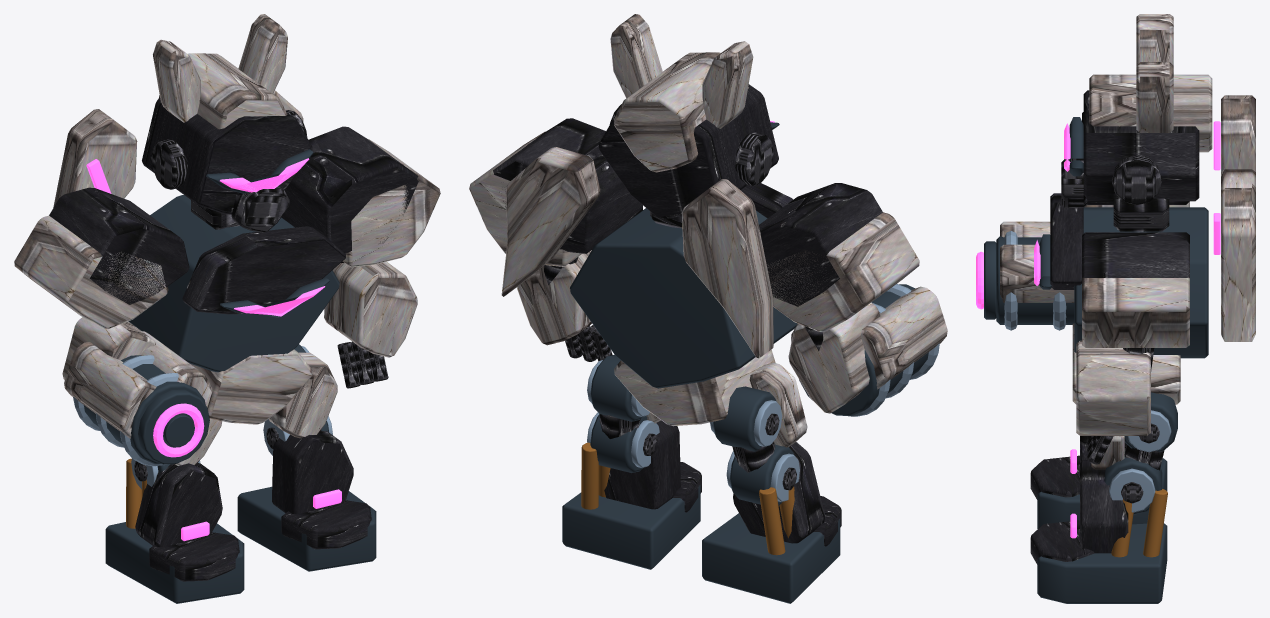
Rendered from scout.glb.
3 views of the same model, side by side, from view 1: azimuth 30°, elevation 25°; view 2: azimuth 150°, elevation 25°; view 3: azimuth 270°, elevation 25° (orthographic). The views are drawn at different scales.
Visible parts, largest first — view 1: Navy crown, Cuirass yoke, Angular scout torso, Greave armor, Greave armor.001, Neck actuator, Servo housing.004, Servo housing.001, Recessed V optic, Tapered thigh shield.001, Bearing ring, Calf piston; view 2: Navy crown, Cuirass yoke, Angular scout torso, Servo housing.001, Servo housing.004, Greave armor.001, Greave armor, Neck actuator, Tapered thigh shield, Bearing ring.002, Calf piston, Calf piston.002 (+4 smaller); view 3: Navy crown, Cuirass yoke, Angular scout torso, Servo housing.004, Neck actuator, Greave armor.001, Greave armor, Bearing ring.008, Calf piston.002, Servo housing.001, Hub.008, Bearing ring (+3 smaller).
Part boxes in pixels (x1=…): Navy crown: x1=14, y1=14, x2=440, y2=438; Cuirass yoke: x1=49, y1=98, x2=418, y2=314; Angular scout torso: x1=73, y1=149, x2=339, y2=464; Greave armor: x1=135, y1=463, x2=239, y2=581; Greave armor.001: x1=272, y1=430, x2=371, y2=549; Neck actuator: x1=151, y1=110, x2=388, y2=388; Servo housing.004: x1=237, y1=344, x2=376, y2=571; Servo housing.001: x1=105, y1=464, x2=244, y2=603; Recessed V optic: x1=153, y1=158, x2=325, y2=457; Tapered thigh shield.001: x1=269, y1=352, x2=337, y2=438; Bearing ring: x1=73, y1=355, x2=178, y2=466; Calf piston: x1=126, y1=458, x2=146, y2=528; Navy crown: x1=469, y1=14, x2=947, y2=426; Cuirass yoke: x1=493, y1=84, x2=882, y2=306; Angular scout torso: x1=570, y1=122, x2=928, y2=415; Servo housing.001: x1=702, y1=386, x2=840, y2=603; Servo housing.004: x1=562, y1=354, x2=700, y2=569; Greave armor.001: x1=604, y1=420, x2=701, y2=512; Greave armor: x1=733, y1=442, x2=841, y2=546; Neck actuator: x1=544, y1=104, x2=823, y2=361; Tapered thigh shield: x1=749, y1=362, x2=807, y2=447; Bearing ring.002: x1=710, y1=400, x2=799, y2=501; Calf piston: x1=759, y1=486, x2=794, y2=555; Calf piston.002: x1=581, y1=442, x2=610, y2=509; Navy crown: x1=1000, y1=14, x2=1255, y2=435; Cuirass yoke: x1=1050, y1=90, x2=1199, y2=289; Angular scout torso: x1=984, y1=117, x2=1208, y2=358; Servo housing.004: x1=1037, y1=392, x2=1177, y2=603; Neck actuator: x1=1061, y1=155, x2=1169, y2=464; Greave armor.001: x1=1030, y1=460, x2=1128, y2=564; Greave armor: x1=1030, y1=436, x2=1125, y2=499; Bearing ring.008: x1=1109, y1=410, x2=1171, y2=512; Calf piston.002: x1=1111, y1=489, x2=1167, y2=557; Servo housing.001: x1=1037, y1=458, x2=1167, y2=528; Hub.008: x1=1121, y1=423, x2=1164, y2=503; Bearing ring: x1=1004, y1=231, x2=1066, y2=330.
Bounding box in the file's own units: 1.17 × 1.52 × 0.751.
Materials: 8 (3 with a texture image).
